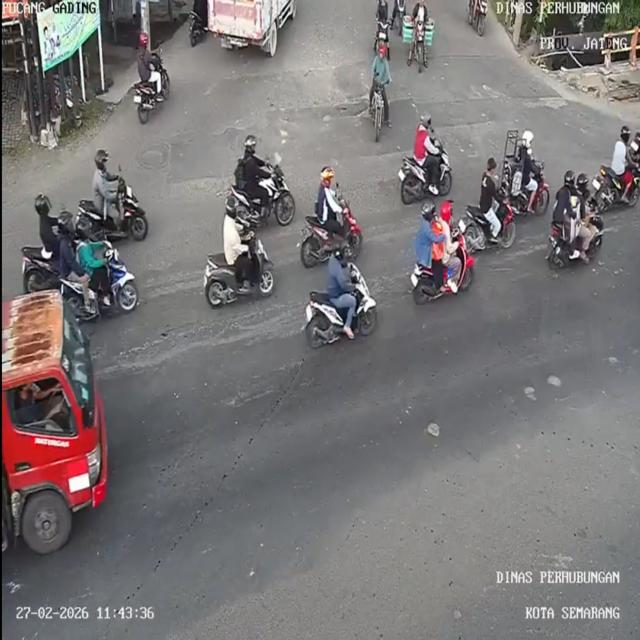motorcycle: (299, 278, 384, 348), (199, 249, 280, 307), (57, 270, 142, 322), (298, 207, 368, 266), (546, 214, 603, 274), (77, 196, 149, 242), (394, 149, 456, 201), (411, 255, 475, 304), (462, 202, 520, 256), (228, 182, 296, 226), (498, 166, 552, 211), (596, 163, 640, 211), (131, 76, 171, 125), (18, 244, 57, 294), (366, 86, 390, 143), (407, 20, 432, 70), (466, 0, 494, 42), (374, 21, 390, 50), (395, 0, 406, 34)
person: (326, 241, 356, 341), (412, 200, 444, 292), (217, 193, 253, 268), (231, 131, 269, 196), (435, 197, 461, 291), (92, 147, 124, 222), (133, 27, 164, 96), (554, 171, 578, 258), (74, 214, 106, 277), (55, 206, 79, 281), (312, 165, 341, 227), (34, 194, 61, 258), (573, 173, 591, 259), (476, 152, 499, 214), (369, 46, 393, 101), (609, 125, 633, 176), (414, 112, 436, 165), (523, 129, 540, 197), (411, 0, 432, 28), (582, 188, 596, 225), (374, 0, 392, 25)
rider_region: (52, 207, 142, 321), (300, 237, 380, 350), (203, 196, 277, 310), (407, 197, 478, 307), (79, 150, 151, 240), (546, 164, 604, 272), (300, 159, 362, 260), (225, 124, 291, 218), (465, 158, 517, 254), (130, 26, 176, 125), (401, 111, 452, 197), (502, 124, 548, 208), (21, 191, 58, 288), (600, 126, 640, 207), (366, 43, 394, 141), (405, 0, 435, 71), (370, 1, 393, 52)
